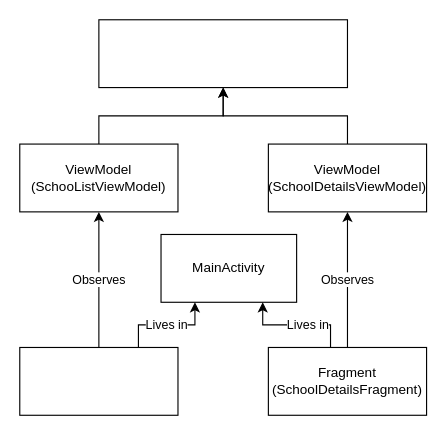
This 446x435 diagram has some shape labels left out. The box of each missing label's shape, as (x1, y1, x2, y2) in pixels:
Fragment (SchooListFragment): (19, 346, 178, 415)
Network (NYCSchoolAPI / NYCSchoolRepo): (98, 19, 347, 88)
